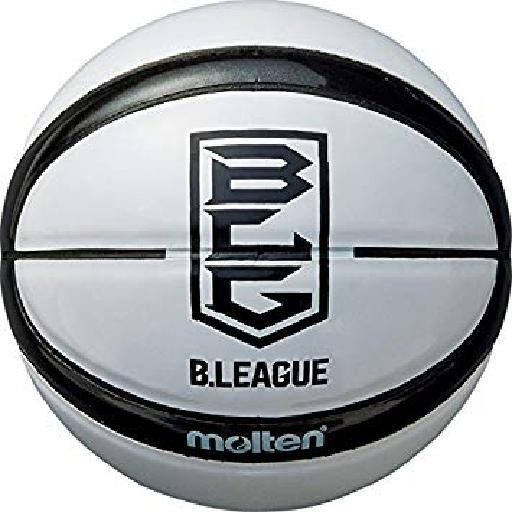ball: (2, 2, 511, 512)
